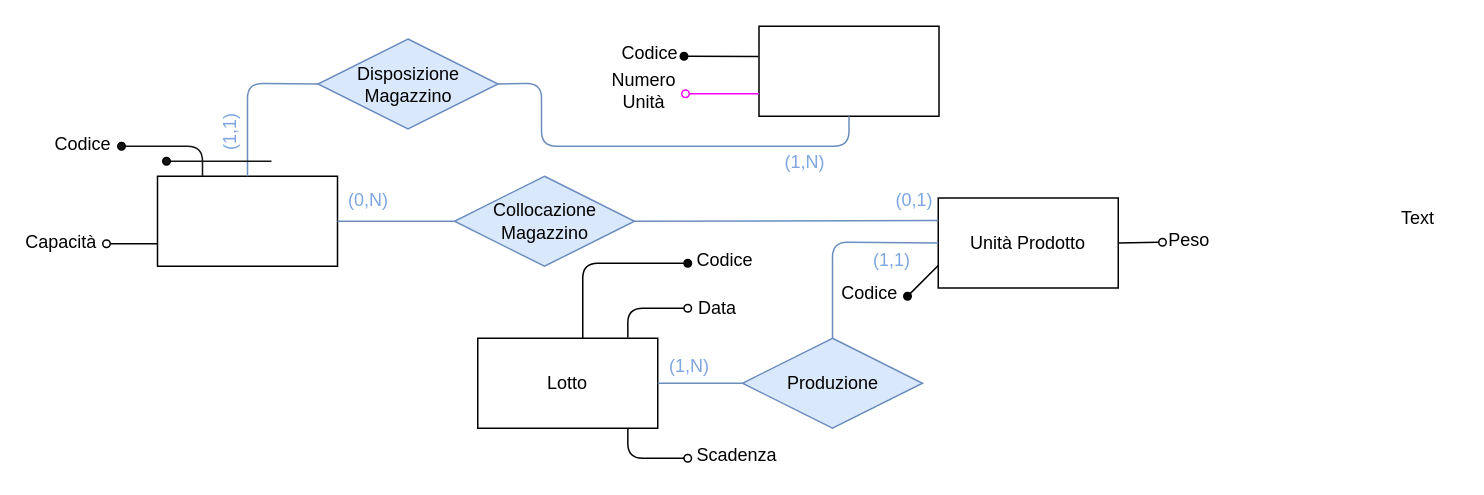
Image size: 1484x495. Some labels were removed from this diagram. Each missing label, with the centre of its shape:
Magazzino: point (848, 70)
Scaffale Magazzino: point (247, 220)
